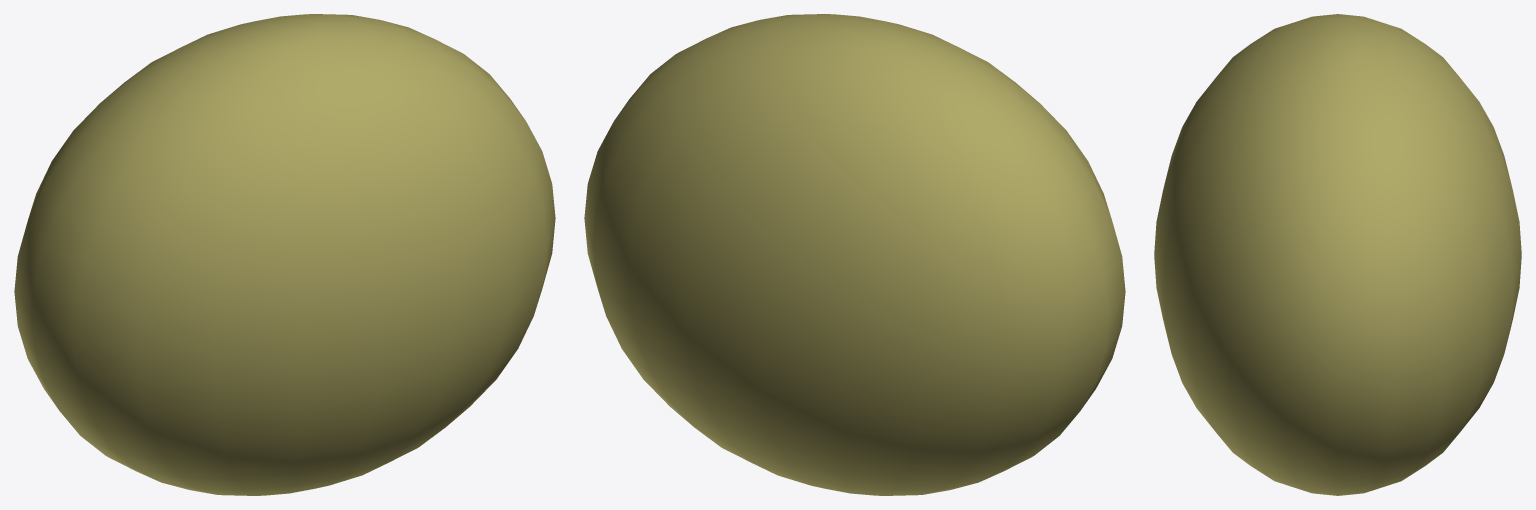
The model's file is カステラのカス.fbx.
The picture shows the model from 3 angles, left to right: view 1: azimuth 30°, elevation 25°; view 2: azimuth 150°, elevation 25°; view 3: azimuth 270°, elevation 25°; orthographic projection. The views are drawn at different scales.
Visible parts, largest first — view 1: pSphere13; view 2: pSphere13; view 3: pSphere13.
Boxes of the visible parts, <box> form: pSphere13: <box>14,14,555,495</box>; pSphere13: <box>584,14,1125,495</box>; pSphere13: <box>1154,14,1521,495</box>.
Size of the model in its own units: 4.23 by 3.56 by 2.81.
